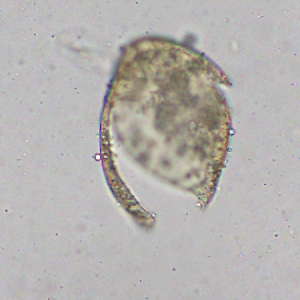Fasciola_hepatica_egg: (97, 32, 234, 229)
